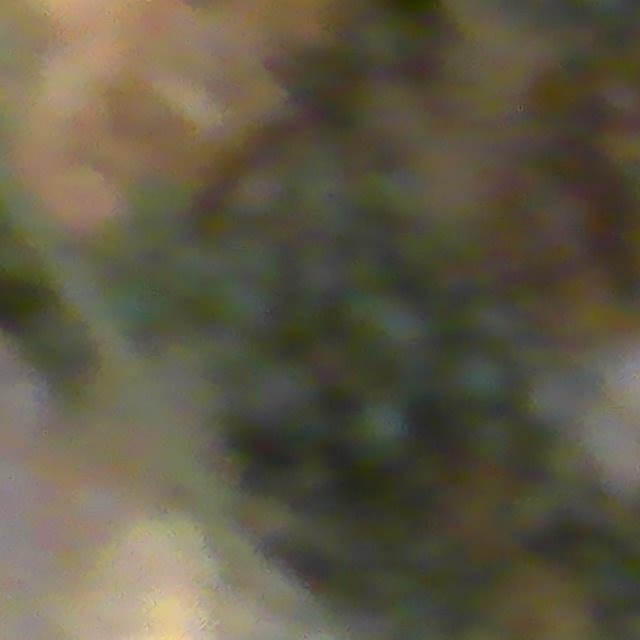SeaGrape: (350, 289, 430, 363), (350, 396, 413, 462), (446, 346, 511, 405)
